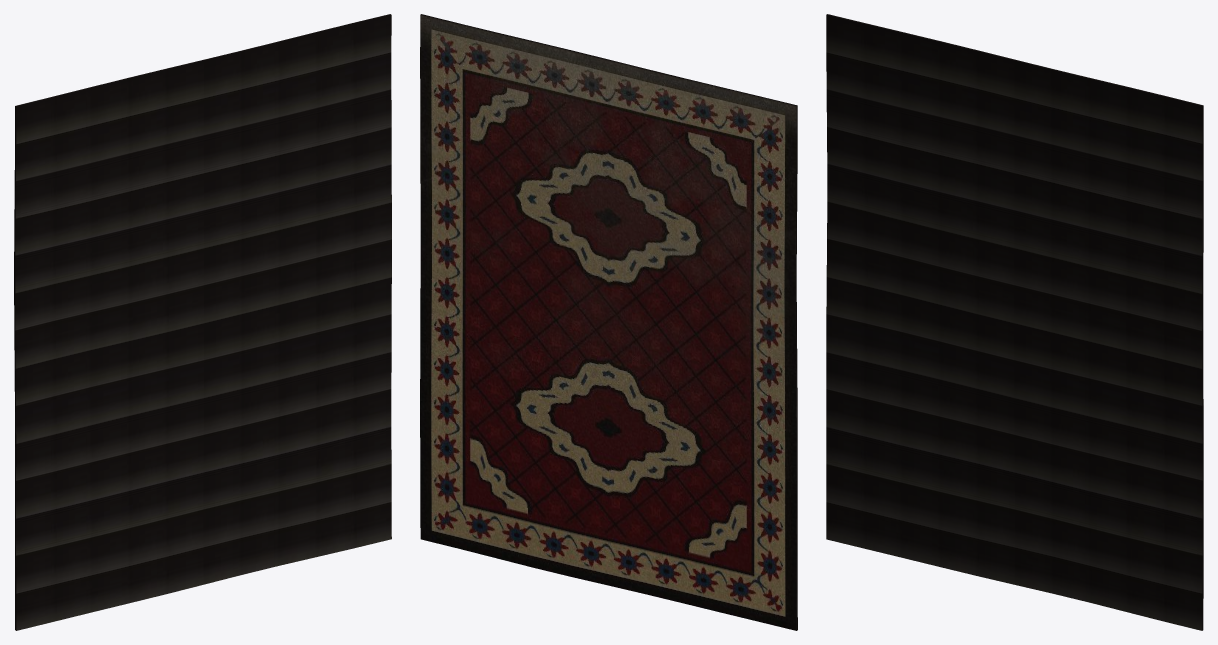
The model's file is carpet_wall_lod1_web.glb.
3 renders of one model, left to right at view 1: azimuth 30°, elevation 25°; view 2: azimuth 150°, elevation 25°; view 3: azimuth 330°, elevation 25°, orthographic.
Parts seen in each view (by area): view 1: CarpetWall_Body; view 2: CarpetWall_Body; view 3: CarpetWall_Body.
Part boxes in pixels (box(x1,y1,x2,y2)): CarpetWall_Body: box(14, 14, 391, 630); CarpetWall_Body: box(420, 14, 797, 630); CarpetWall_Body: box(826, 14, 1203, 630).
Size of the model in its own units: 1.5 by 2 by 0.0156.
1 material, 1 textured.
